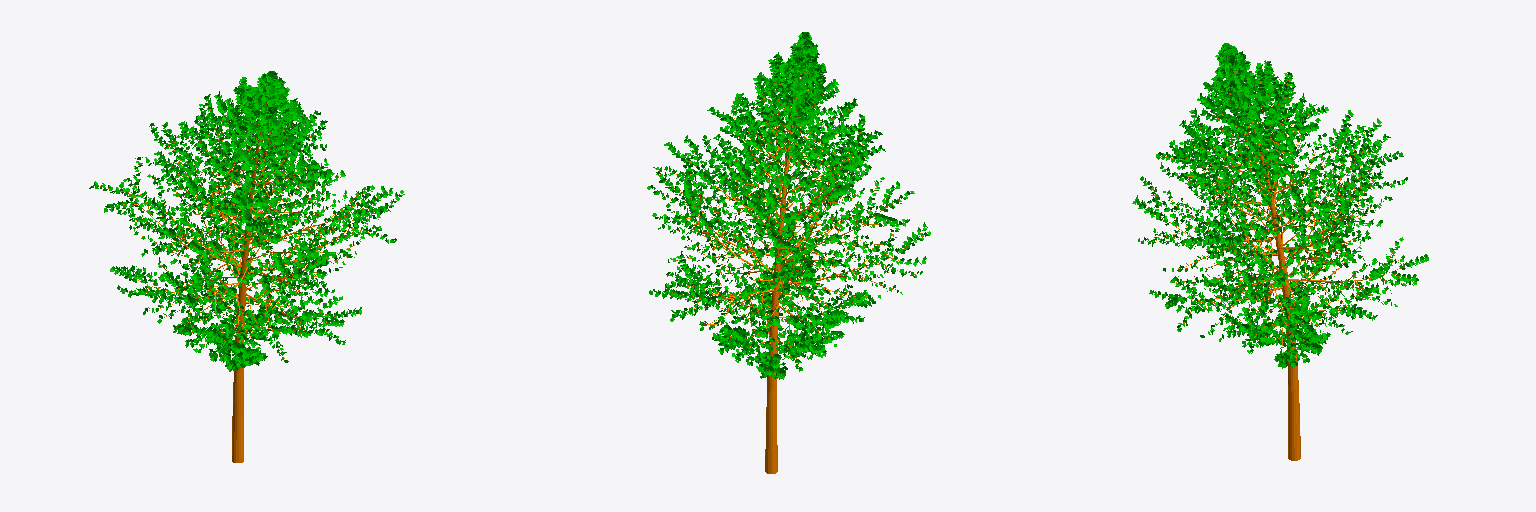
3 views of the same model, side by side, from view 1: azimuth 30°, elevation 25°; view 2: azimuth 150°, elevation 25°; view 3: azimuth 270°, elevation 25° (orthographic).
Parts seen in each view (by area): view 1: DG_leaf, DG_oak, DG_trunk; view 2: DG_leaf, DG_oak, DG_trunk; view 3: DG_leaf, DG_oak, DG_trunk.
Boxes of the visible parts, x1,y1,x2,y2 form: DG_leaf: [89, 71, 404, 371]; DG_oak: [100, 98, 397, 361]; DG_trunk: [232, 102, 266, 462]; DG_leaf: [647, 32, 930, 379]; DG_oak: [657, 55, 922, 364]; DG_trunk: [765, 77, 799, 473]; DG_leaf: [1132, 43, 1428, 368]; DG_oak: [1139, 68, 1415, 353]; DG_trunk: [1234, 72, 1300, 460].
Size of the model in its own units: 3.16 by 4.75 by 3.09.